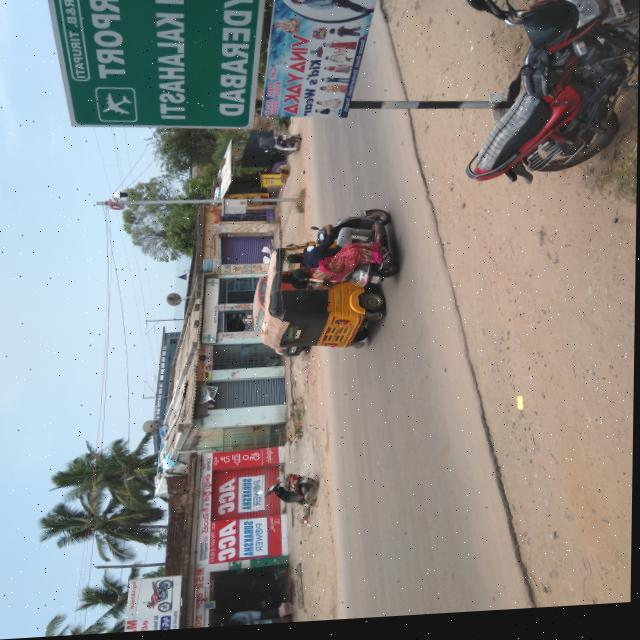plate: (600, 0, 626, 27), (332, 333, 343, 347), (371, 280, 382, 290)
